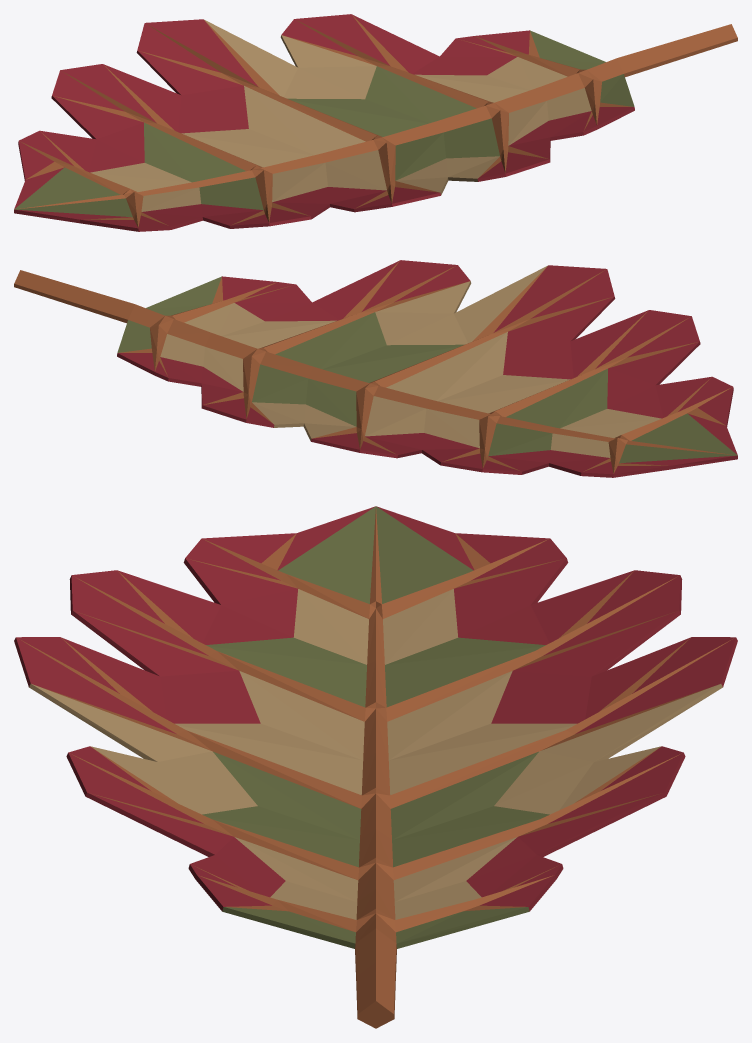
The model's file is fallen-oak-leaf-5b15fe.glb.
The picture shows the model from 3 angles, top to bottom: view 1: azimuth 30°, elevation 25°; view 2: azimuth 150°, elevation 25°; view 3: azimuth 270°, elevation 25°; orthographic projection. The views are drawn at different scales.
Parts seen in each view (by area): view 1: leaf-mesh; view 2: leaf-mesh; view 3: leaf-mesh.
Boxes of the visible parts, x1,y1,x2,y2 form: leaf-mesh: [14, 14, 737, 231]; leaf-mesh: [14, 260, 737, 477]; leaf-mesh: [14, 506, 737, 1028].
Bounding box in the file's own units: 10 × 0.8901 × 6.
